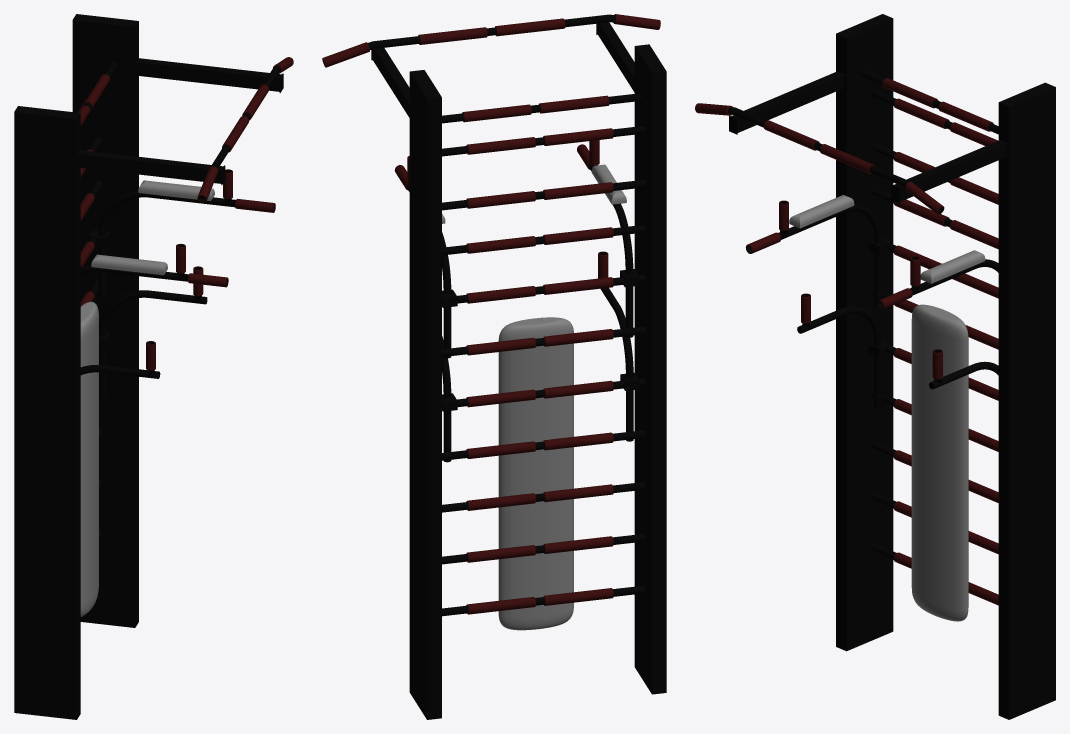
Rendered from wall.fbx.
The picture shows the model from 3 angles, left to right: view 1: azimuth 30°, elevation 25°; view 2: azimuth 150°, elevation 25°; view 3: azimuth 270°, elevation 25°; orthographic projection. The views are drawn at different scales.
Visible parts, largest first — view 1: Box02.Box12, Box02, Cylinder16, Box03, Box03.Box13, Cylinder12, Cylinder11, Cylinder14, Cylinder12.Cylinder13, Box05, Cylinder14.Cylinder15, Box05.Box15 (+1 smaller); view 2: Box02, Box02.Box12, Cylinder16, Cylinder11, Cylinder01.Cylinder04, Cylinder01.Cylinder06, Cylinder01.Cylinder08, Cylinder01.Cylinder09, Cylinder01.Cylinder77, Cylinder01.Cylinder02, Cylinder01.Cylinder03, Cylinder01 (+10 smaller); view 3: Box02, Box02.Box12, Cylinder16, Cylinder11, Box03, Box03.Box13, Cylinder12.Cylinder13, Cylinder14.Cylinder15, Cylinder01.Cylinder10, Cylinder01.Cylinder08, Cylinder01.Cylinder09, Cylinder12 (+11 smaller).
Part boxes in pixels (left/top/right/bottom): Box02.Box12: left=14, top=106, right=80, bottom=719; Box02: left=72, top=14, right=138, bottom=627; Cylinder16: left=80, top=301, right=98, bottom=616; Box03: left=136, top=58, right=283, bottom=92; Box03.Box13: left=77, top=150, right=225, bottom=185; Cylinder12: left=98, top=169, right=275, bottom=298; Cylinder11: left=197, top=57, right=293, bottom=202; Cylinder14: left=99, top=266, right=207, bottom=398; Cylinder12.Cylinder13: left=80, top=244, right=228, bottom=287; Box05: left=91, top=254, right=167, bottom=275; Cylinder14.Cylinder15: left=80, top=341, right=160, bottom=378; Box05.Box15: left=138, top=180, right=214, bottom=201; Box02: left=409, top=70, right=441, bottom=719; Box02.Box12: left=634, top=44, right=666, bottom=694; Cylinder16: left=498, top=317, right=573, bottom=630; Cylinder11: left=322, top=14, right=660, bottom=67; Cylinder01.Cylinder04: left=442, top=430, right=645, bottom=460; Cylinder01.Cylinder06: left=442, top=326, right=645, bottom=356; Cylinder01.Cylinder08: left=442, top=225, right=645, bottom=255; Cylinder01.Cylinder09: left=442, top=126, right=645, bottom=156; Cylinder01.Cylinder77: left=442, top=180, right=645, bottom=210; Cylinder01.Cylinder02: left=442, top=534, right=645, bottom=564; Cylinder01.Cylinder03: left=442, top=482, right=645, bottom=512; Cylinder01: left=442, top=585, right=645, bottom=616; Box02: left=998, top=82, right=1055, bottom=719; Box02.Box12: left=836, top=14, right=893, bottom=651; Cylinder16: left=911, top=304, right=968, bottom=621; Cylinder11: left=695, top=103, right=944, bottom=214; Box03: left=891, top=140, right=1007, bottom=203; Box03.Box13: left=729, top=71, right=844, bottom=134; Cylinder12.Cylinder13: left=746, top=200, right=881, bottom=306; Cylinder14.Cylinder15: left=797, top=293, right=881, bottom=409; Cylinder01.Cylinder10: left=860, top=69, right=998, bottom=134; Cylinder01.Cylinder08: left=871, top=187, right=998, bottom=249; Cylinder01.Cylinder09: left=871, top=90, right=997, bottom=145; Cylinder12: left=877, top=256, right=998, bottom=309.
Size of the model in its own units: 35885 by 67310 by 35888.
